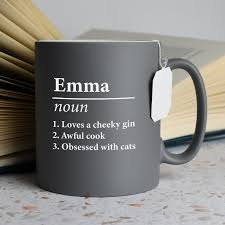mug: (28, 28, 220, 211)
